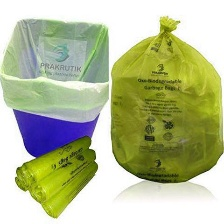plastic_bag: (102, 7, 224, 184), (0, 15, 112, 124), (12, 133, 96, 182), (29, 146, 98, 203), (40, 160, 100, 218), (7, 171, 40, 204)
